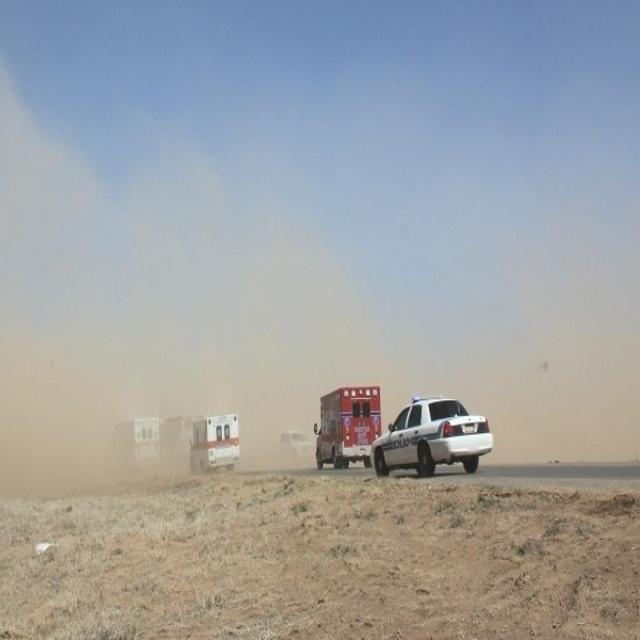Car: (372, 393, 491, 475), (271, 418, 318, 468)
Truck: (306, 368, 383, 468), (184, 409, 245, 488), (115, 400, 164, 482)
